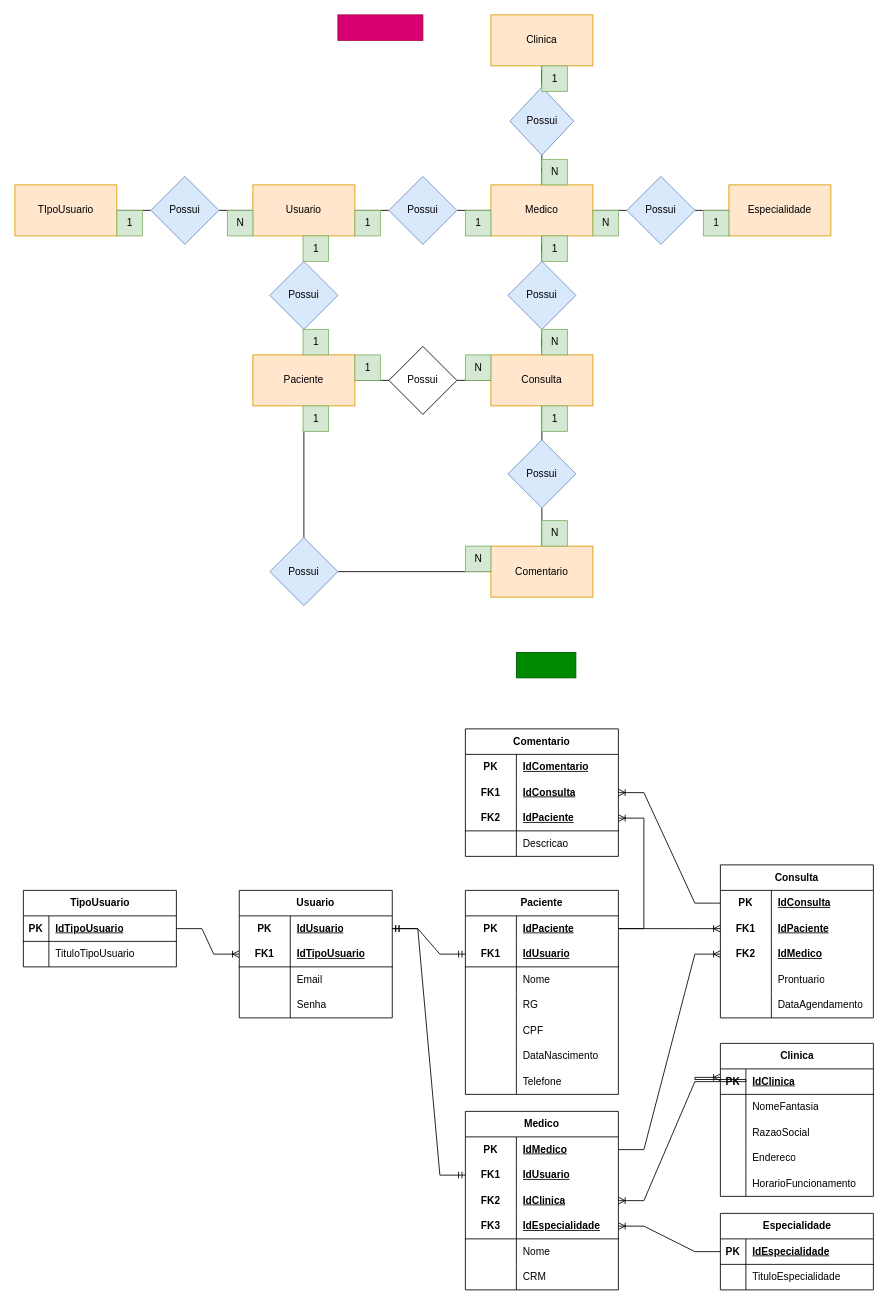
This 888x1305 diagram has some shape labels left out. Here are the shapes that lost their labels. From the top down, the centre of each, then its label:
At pixel 380 27: "CONCEITUAL".
At pixel 546 665: "LOGICO".
